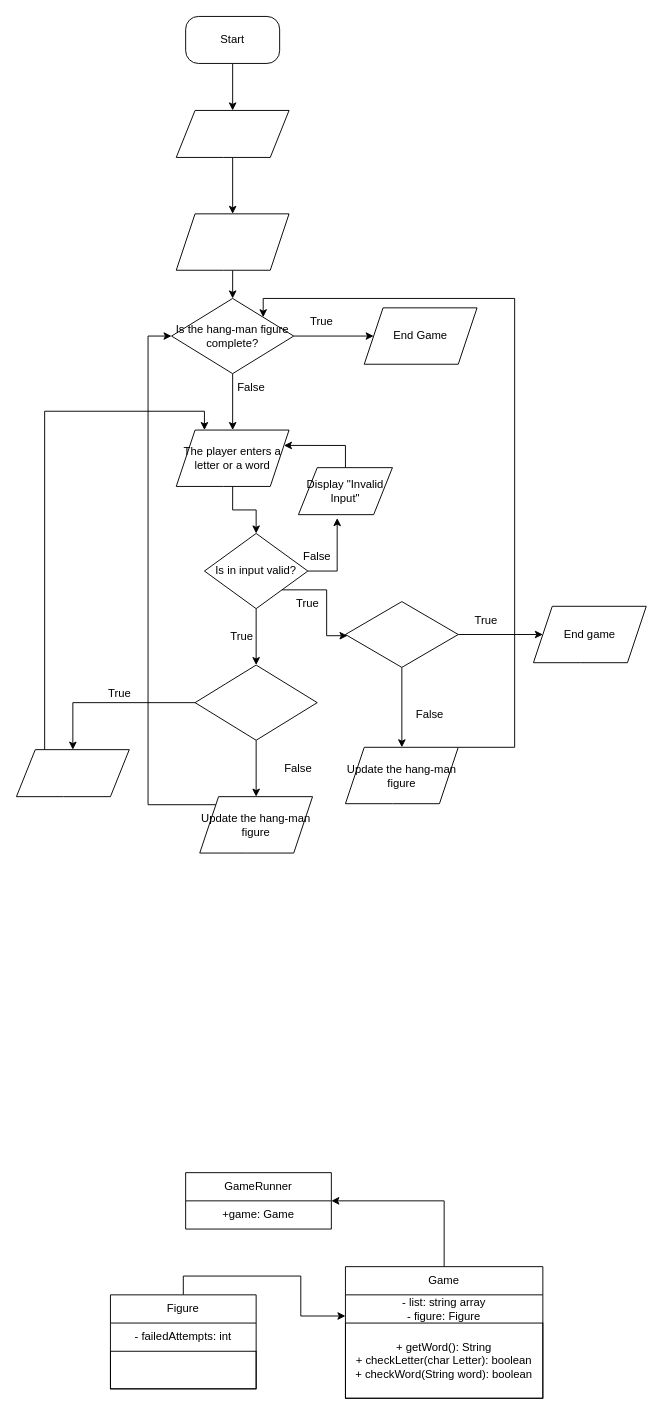
The diagram is 663 pixels wide and 1415 high, and some of its shapes have lost their labels. Here are the shapes that lost their labels. From the top down, the centre of each, then its label:
At point (232, 133): "A random word is selected from an array".
At point (232, 241): "The length of the word is displayed".
At point (401, 634): "If the word is correct".
At point (255, 702): "Is the letter present in the word?".
At point (72, 773): "Display the positions of the letter".
At point (183, 1369): "+increaseAttempt(): void +updateFigure(): void +returnFigure(): String".
